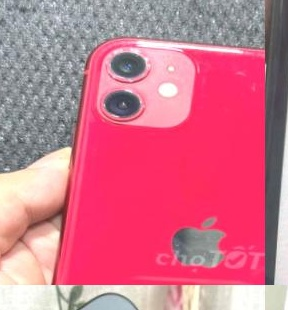scratch: (76, 79, 149, 133), (94, 45, 156, 85)
